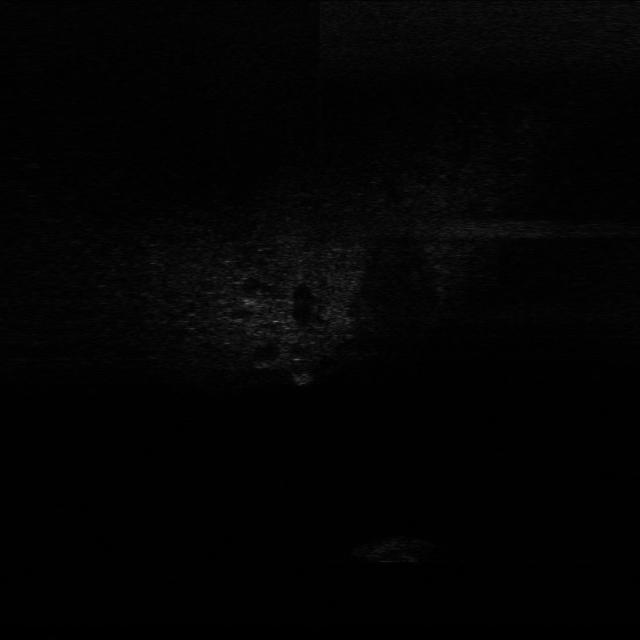circle cage: (360, 528, 446, 569)
cube: (287, 363, 318, 388)
